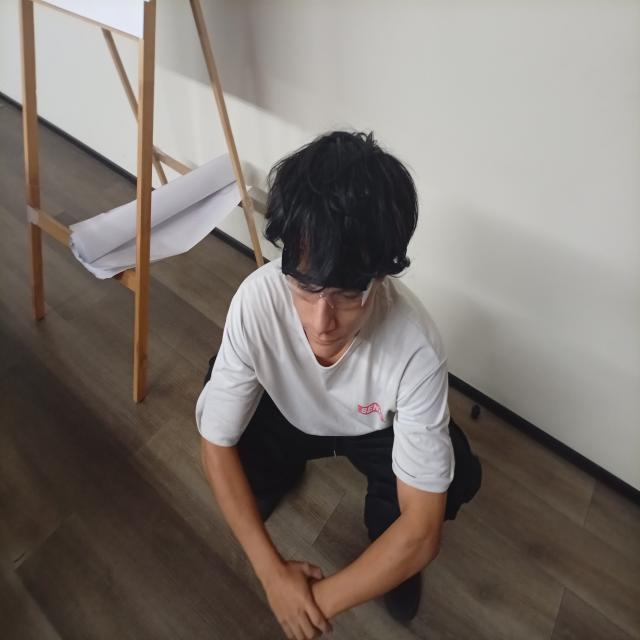oculos-epi: (281, 244, 380, 310)
